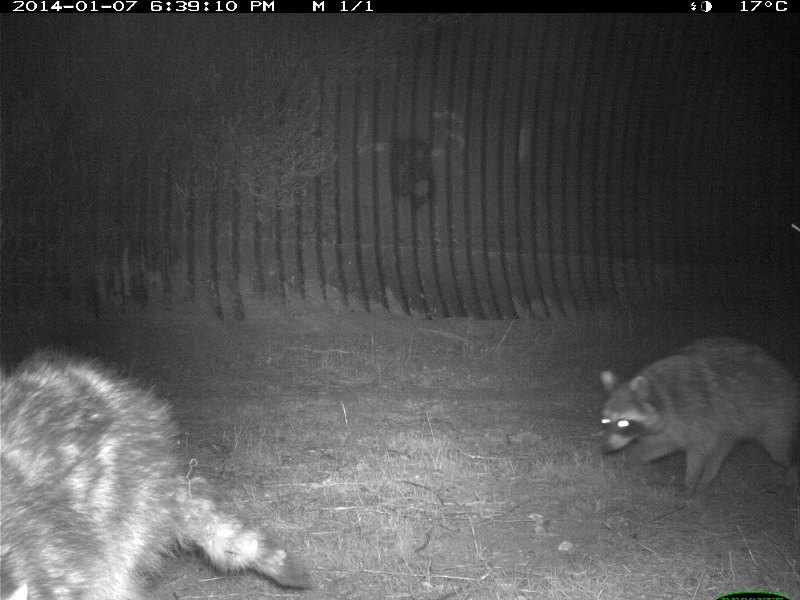raccoon: (1, 347, 312, 599), (595, 333, 797, 497)
